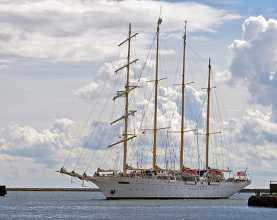fanchuan: (64, 11, 244, 197)
